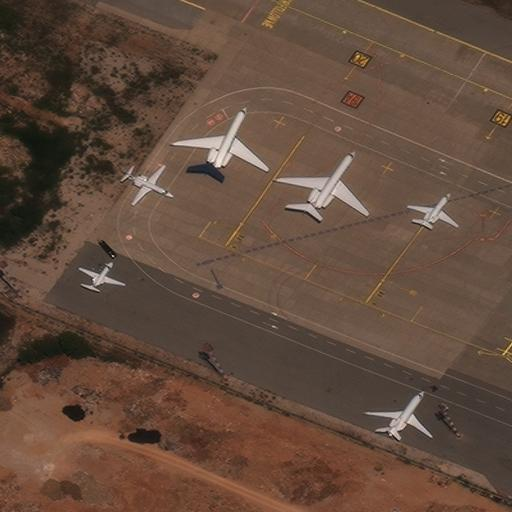Medium Civil Transport: (174, 107, 269, 175), (277, 151, 370, 213), (364, 390, 433, 436), (124, 166, 174, 206), (407, 192, 459, 225)
Small Civil Transport: (78, 262, 125, 290)
